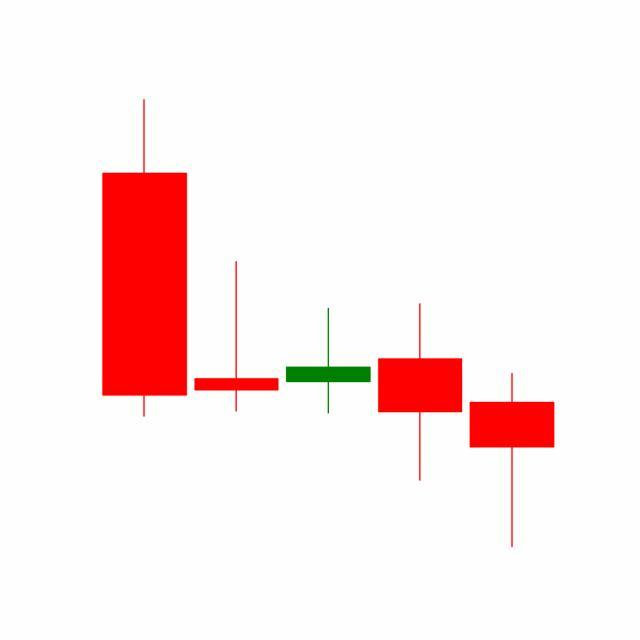Three Outside Up-Down: (280, 299, 555, 548)
